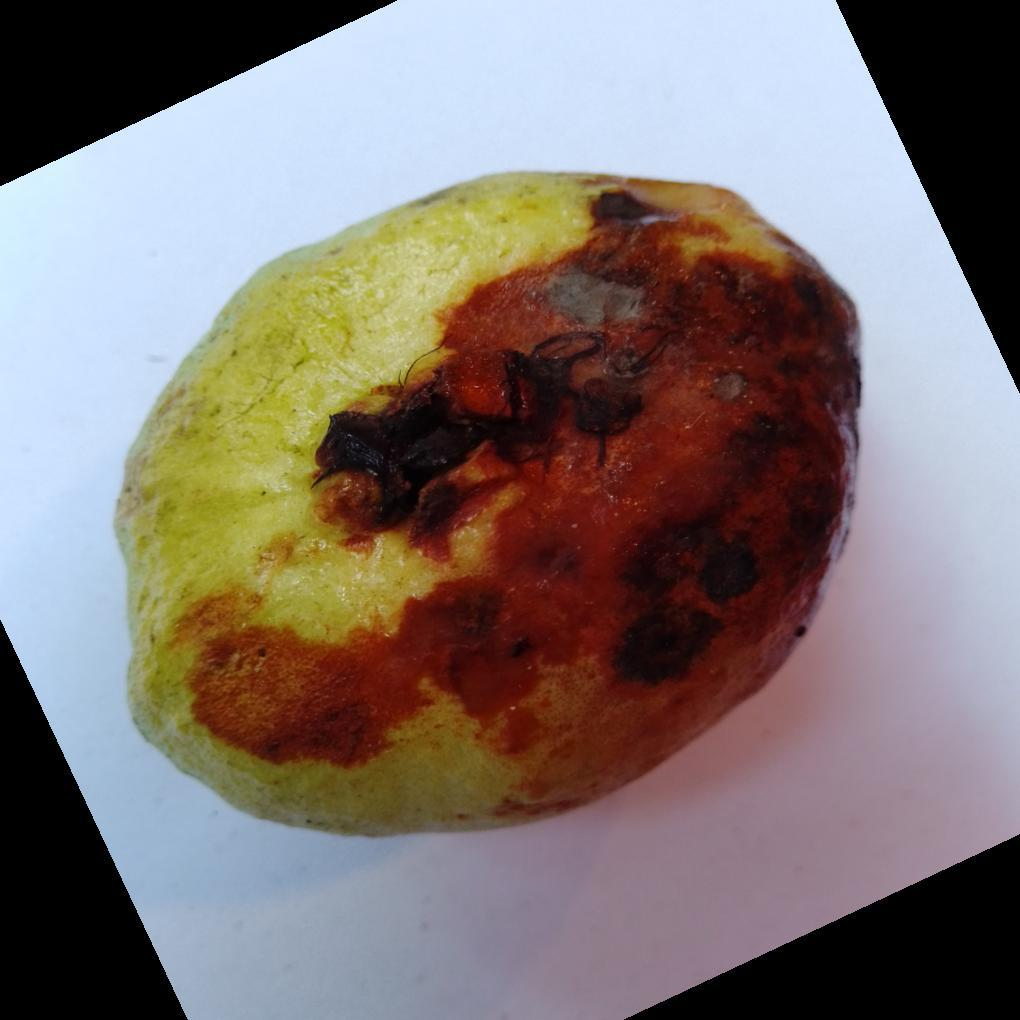FreshOrange: (111, 172, 862, 843)
